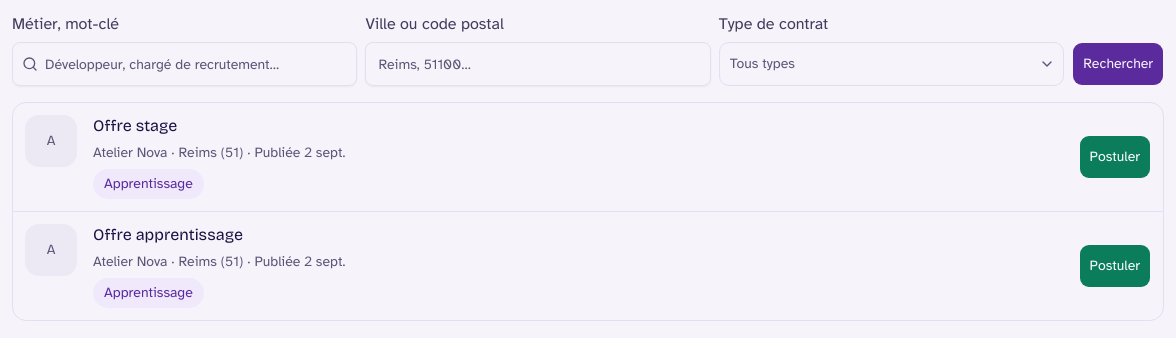
it: OfferSearch › filters by contract type using the raw enum value, not the displayed French label
Step 1. Click the dropdown named "type de contrat" → (762, 64), box [719,42,1064,86]
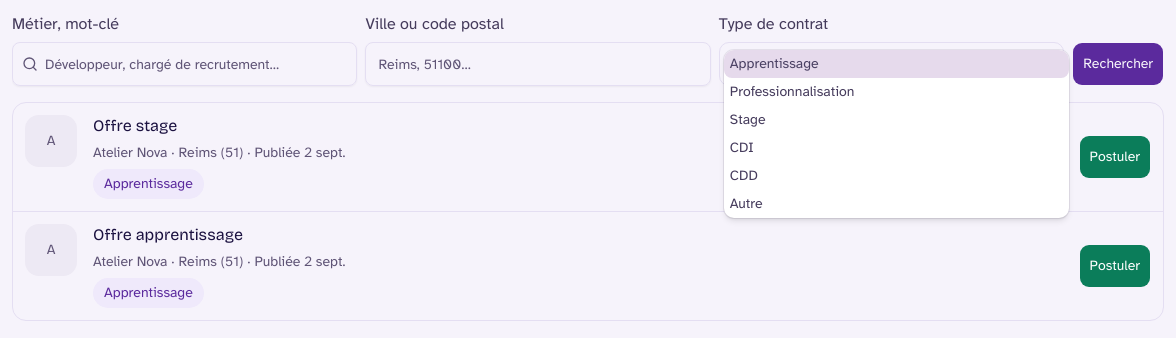
Step 2. Click the option "Stage" → (748, 120), box [730,111,765,128]
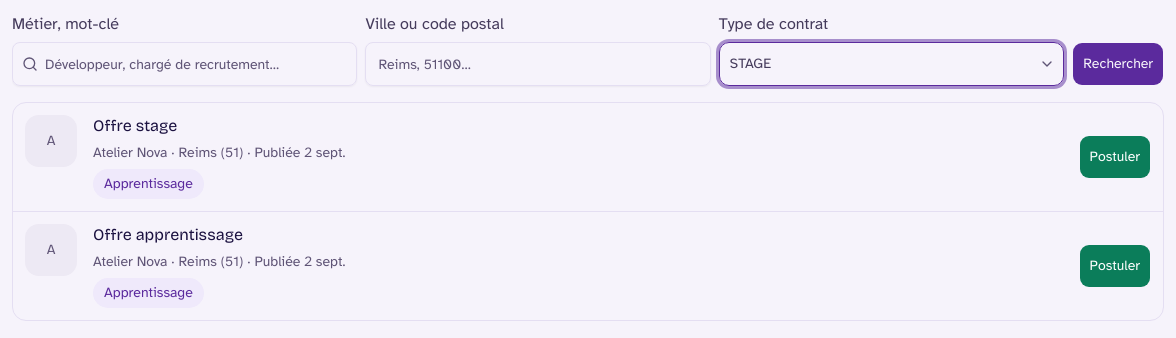
Step 3. Click the button "Rechercher" → (1118, 64), box [1072,42,1164,86]
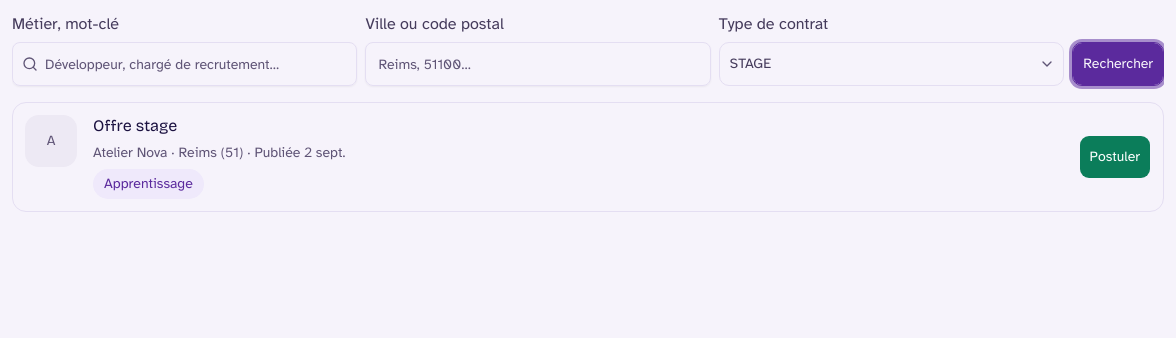
Expected: the text "Offre stage" is shown, [93,116,177,135]
Expected: the text "Offre apprentissage" is gone
